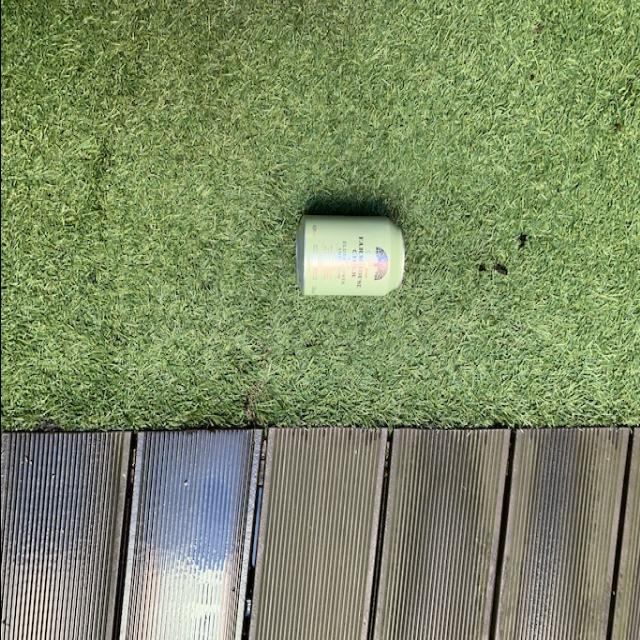litter: (290, 214, 408, 308)
